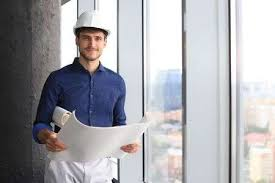Person_wearing_helmet: (73, 6, 113, 41)
